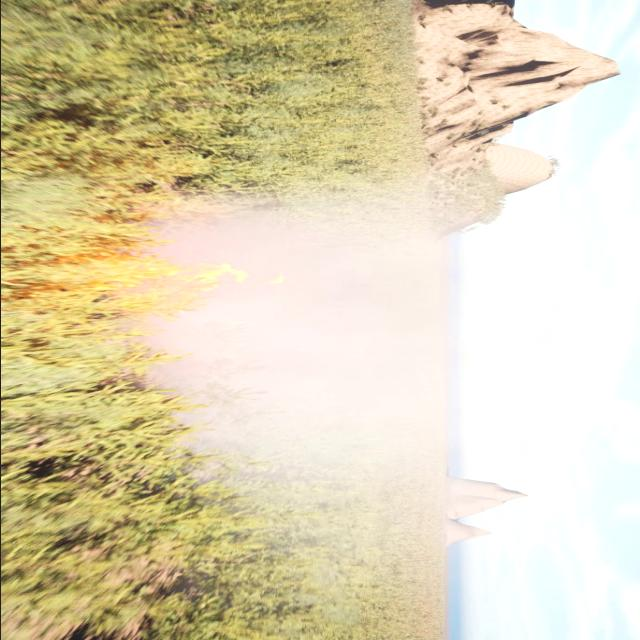fire: (96, 250, 300, 314)
smoke: (123, 189, 521, 573)
